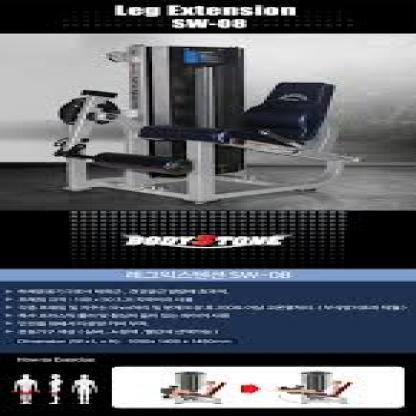leg extension: (25, 38, 367, 205)
